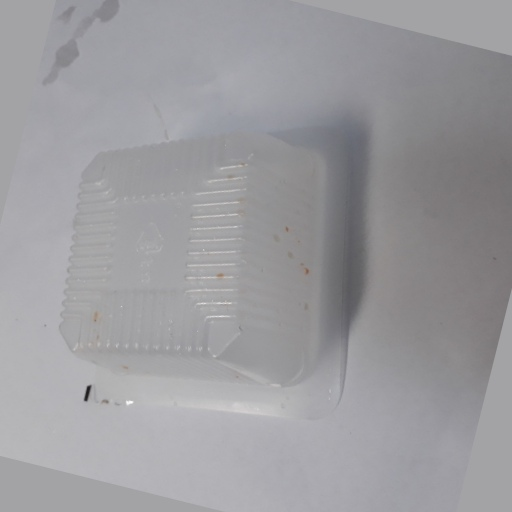Plastic_4: (55, 131, 345, 431)
